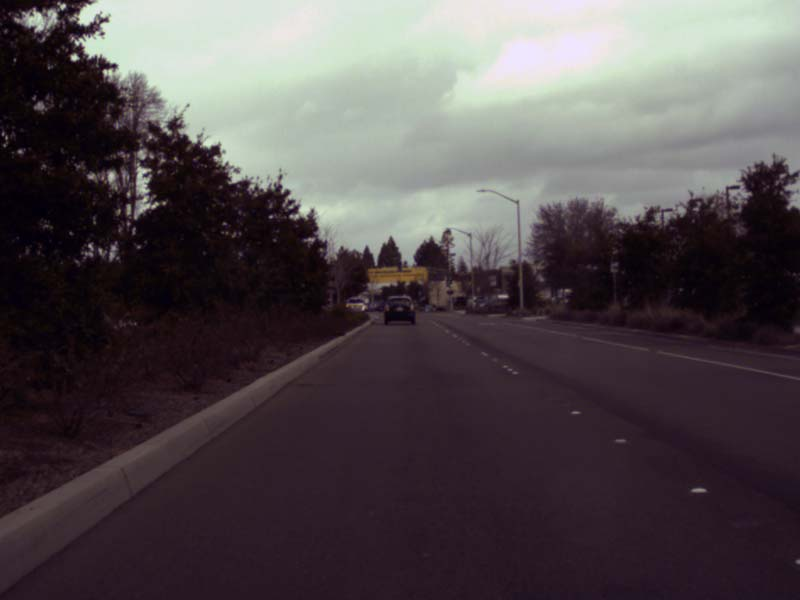Green: (397, 261, 400, 270), (449, 279, 452, 286), (468, 276, 470, 284)
